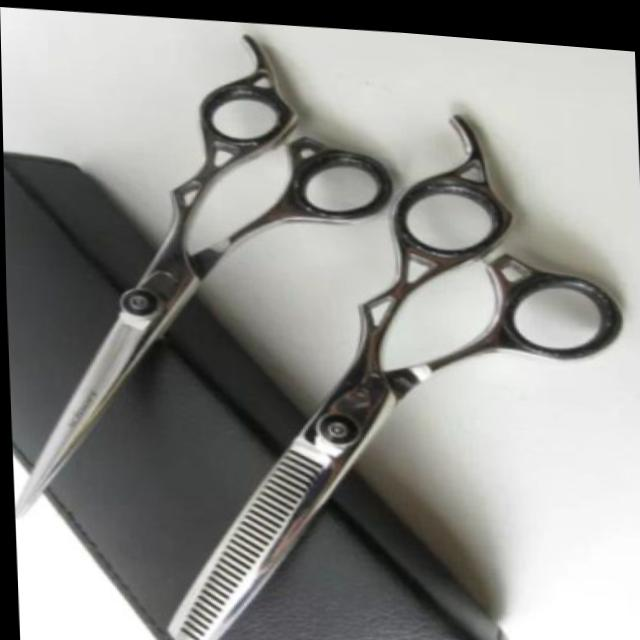scissor: (142, 74, 640, 640)
